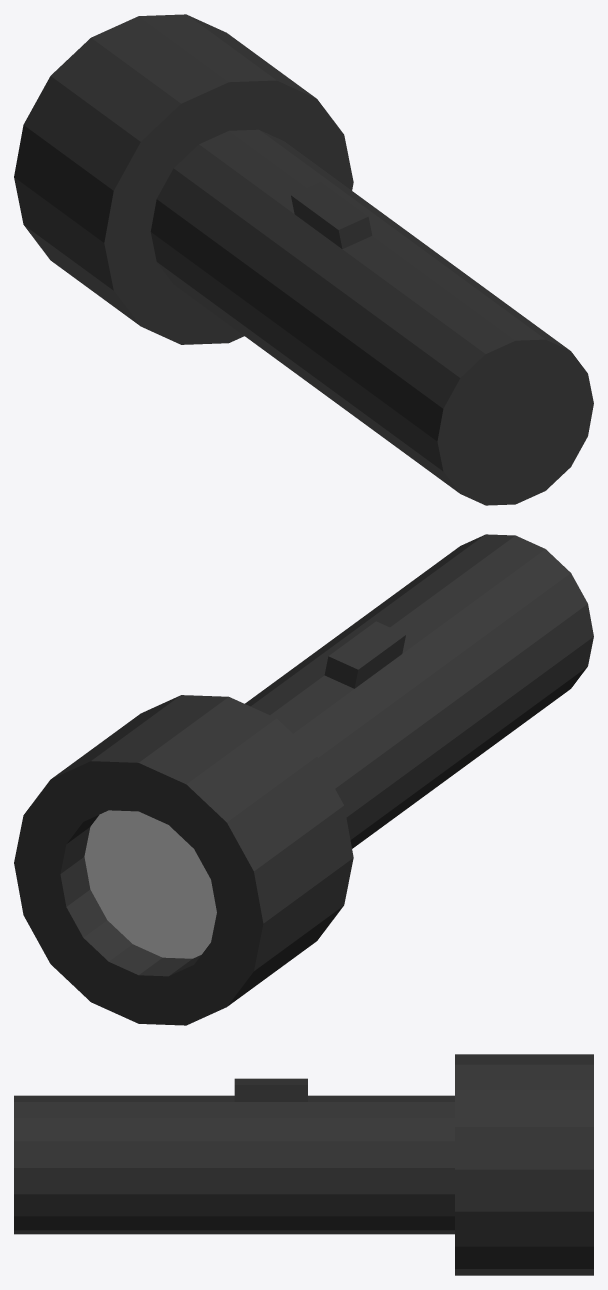
The model's file is flashlight.fbx.
3 renders of one model, top to bottom at view 1: azimuth 30°, elevation 25°; view 2: azimuth 150°, elevation 25°; view 3: azimuth 270°, elevation 25°, orthographic. The views are drawn at different scales.
Parts seen in each view (by area): view 1: Cylinder; view 2: Cylinder; view 3: Cylinder.
Part boxes in pixels (x1,y1,x2,y2): Cylinder: (14, 14, 593, 505); Cylinder: (14, 534, 593, 1025); Cylinder: (14, 1054, 593, 1275).
Size of the model in its own units: 79.66 by 79.66 by 209.
1 material, 1 textured.
